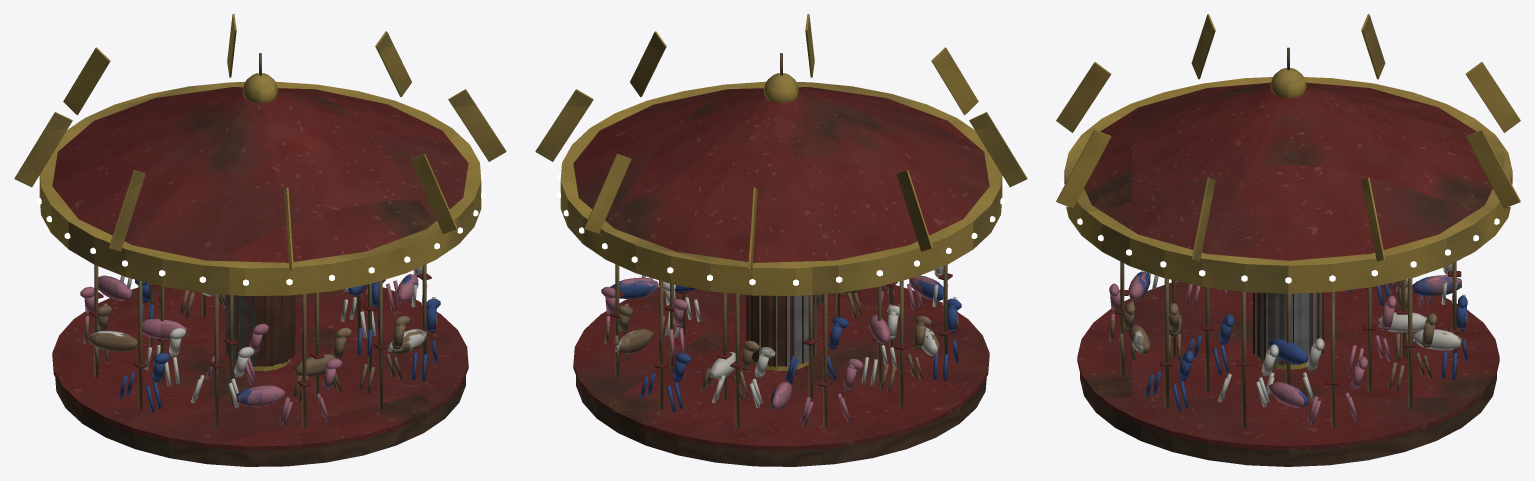
File: C02_carousel.glb
3 renders of one model, left to right at view 1: azimuth 30°, elevation 25°; view 2: azimuth 150°, elevation 25°; view 3: azimuth 270°, elevation 25°, orthographic.
Parts seen in each view (by area): view 1: C02_carousel; view 2: C02_carousel; view 3: C02_carousel.
Part boxes in pixels (x1=…): C02_carousel: x1=14, y1=14, x2=506, y2=466; C02_carousel: x1=535, y1=14, x2=1027, y2=466; C02_carousel: x1=1056, y1=14, x2=1520, y2=466.
Bounding box in the file's own units: 8 × 6.28 × 8.
Materials: 11 (10 with a texture image).
